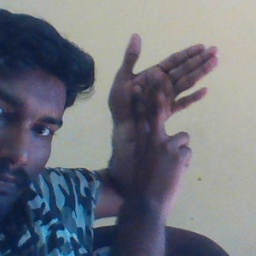N: (104, 32, 220, 167)
